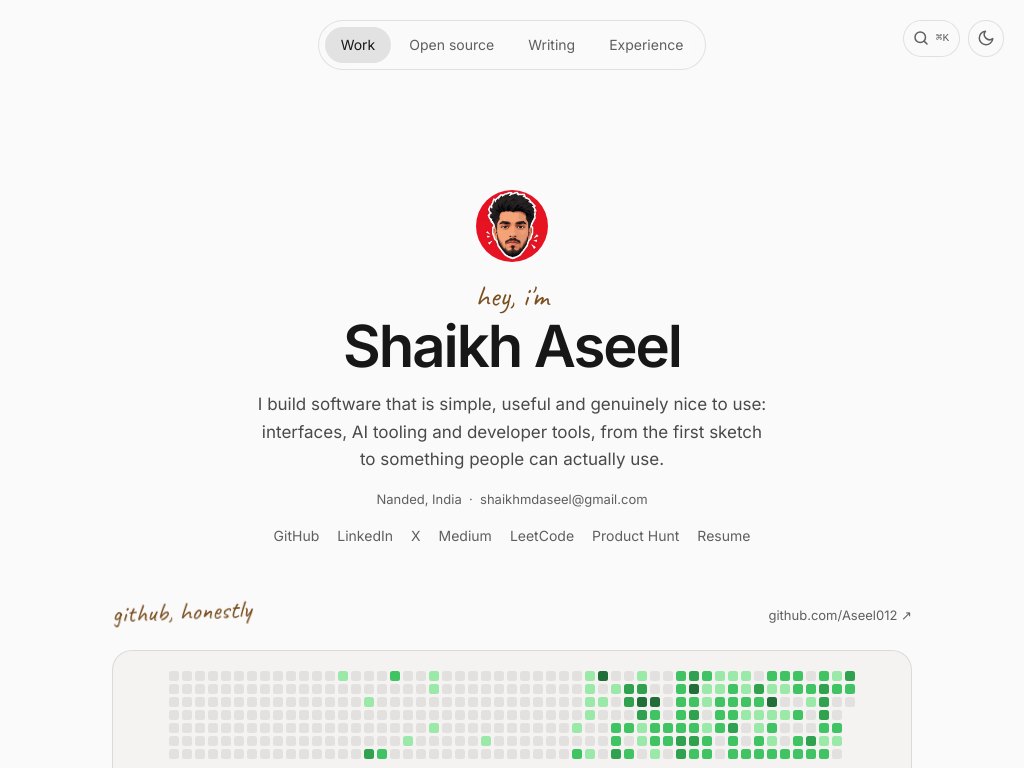
Scenario: command palette › opens with ctrl+k, filters and navigates with enter
Press k
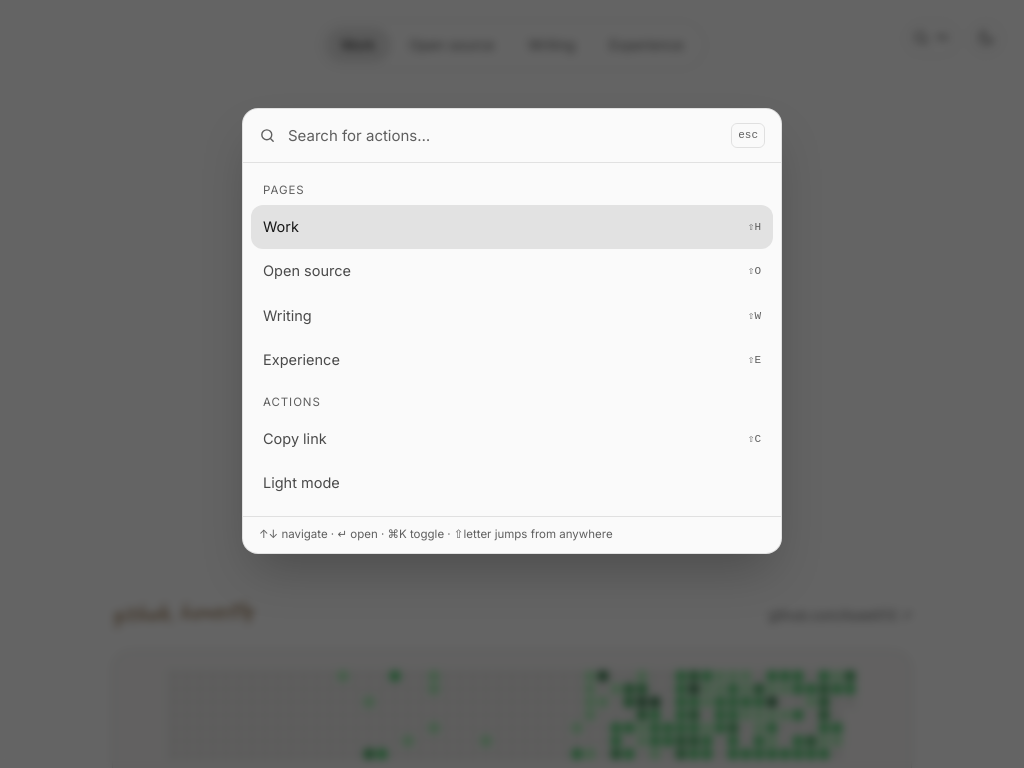
Type "writing" into the field labelled "Search for actions". click: (504, 135)
box: [288,108,719,162]
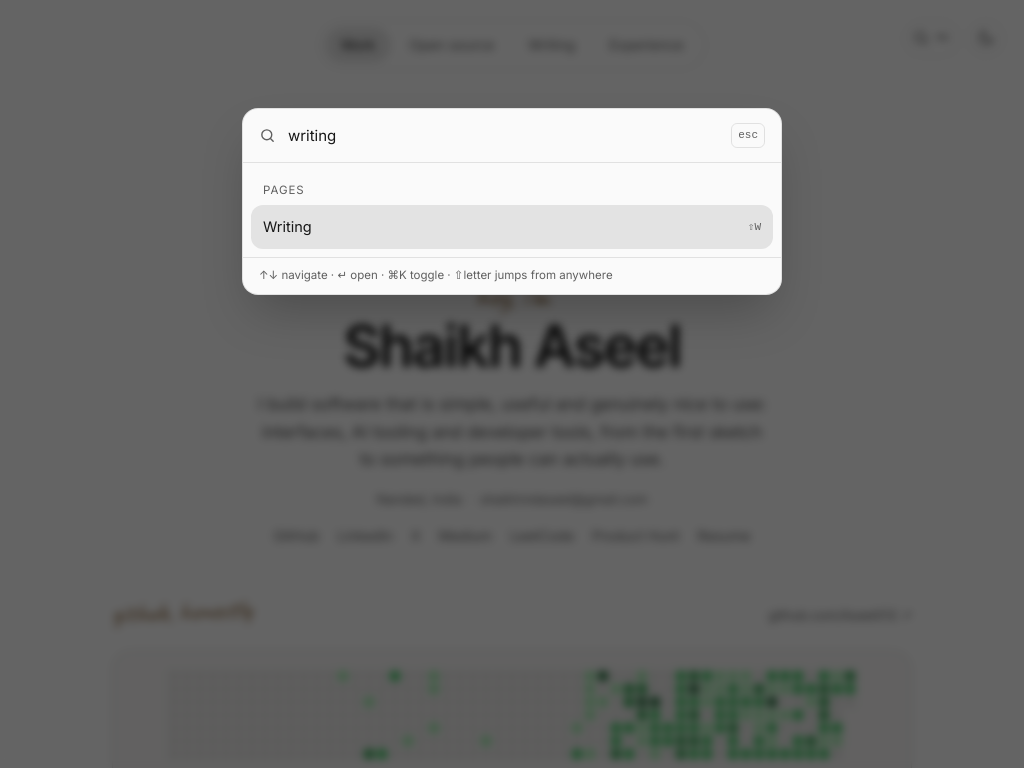
Press Enter in the field named "Search for actions", box [288,108,719,162]
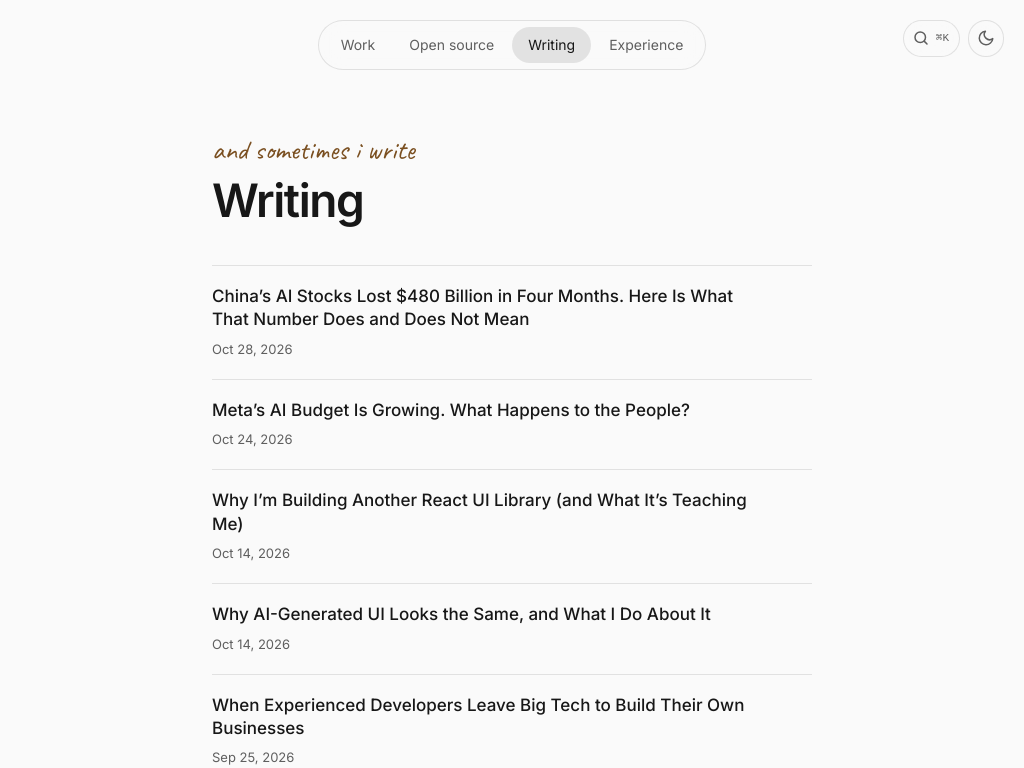
Check: the heading "Writing" is shown, box [212,172,364,228]
Check: the dialog is gone
